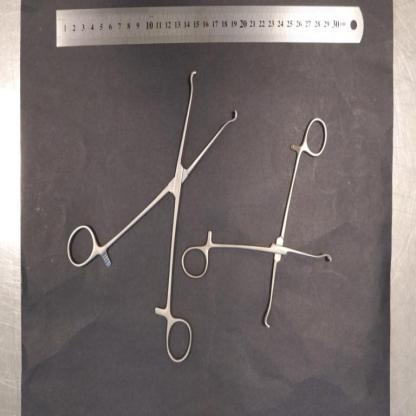8 Babcock Tissue Forceps: (68, 71, 238, 365)
Babcock Tissue Forceps: (182, 119, 332, 329)
